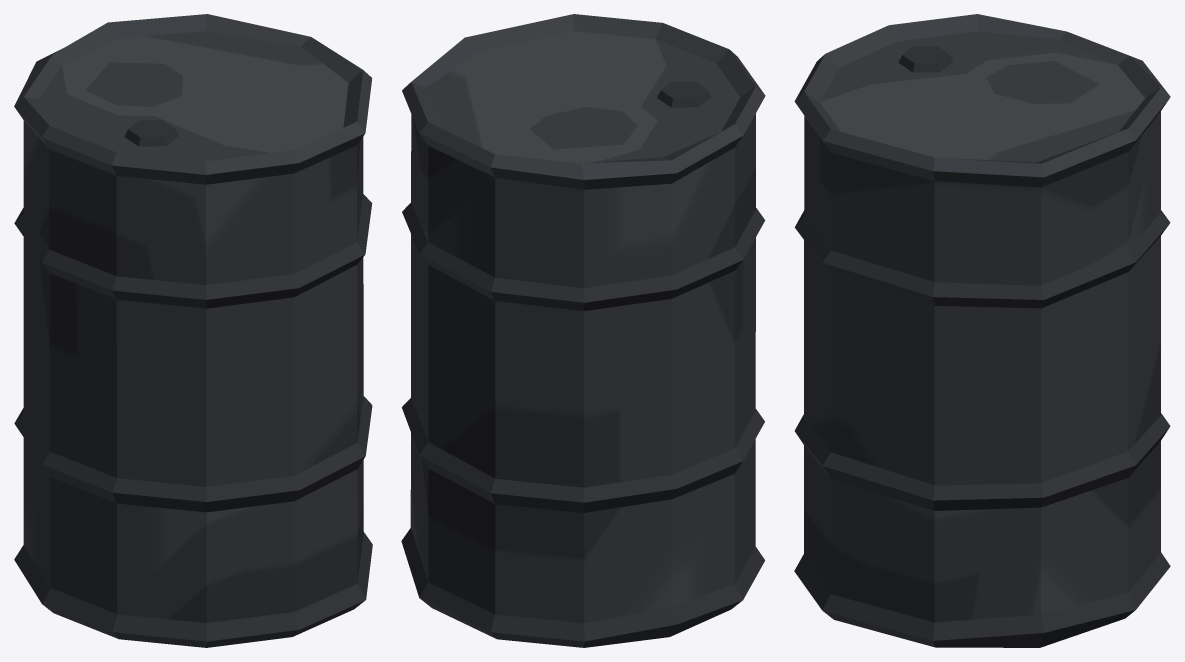
Rendered from SM_Gen_Prop_Barrel_Metal_03.obj.
3 views of the same model, side by side, from view 1: azimuth 30°, elevation 25°; view 2: azimuth 150°, elevation 25°; view 3: azimuth 270°, elevation 25° (orthographic).
Visible parts, largest first — view 1: SM_Gen_Prop_Barrel_Metal_03_0; view 2: SM_Gen_Prop_Barrel_Metal_03_0; view 3: SM_Gen_Prop_Barrel_Metal_03_0.
Boxes of the visible parts, x1,y1,x2,y2 form: SM_Gen_Prop_Barrel_Metal_03_0: (14, 14, 372, 647); SM_Gen_Prop_Barrel_Metal_03_0: (401, 14, 765, 647); SM_Gen_Prop_Barrel_Metal_03_0: (794, 14, 1170, 647).
Size of the model in its own units: 0.6949 by 1.05 by 0.7261.
Materials: 1 (1 with a texture image).
